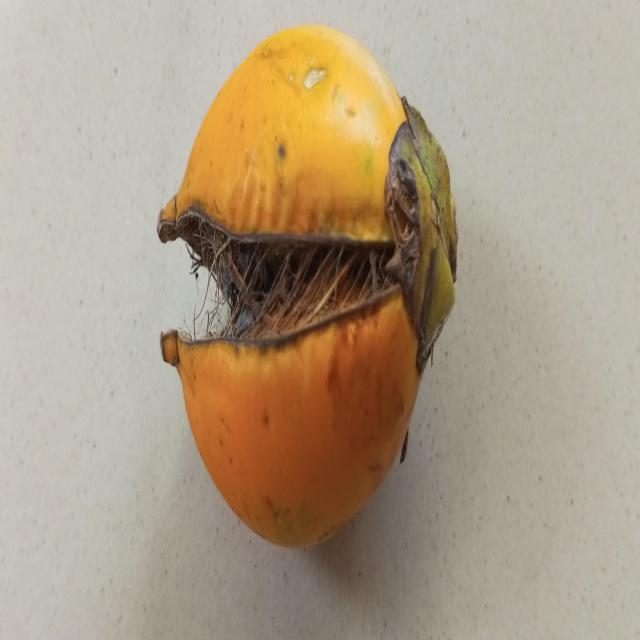damaged: (157, 25, 457, 547)
